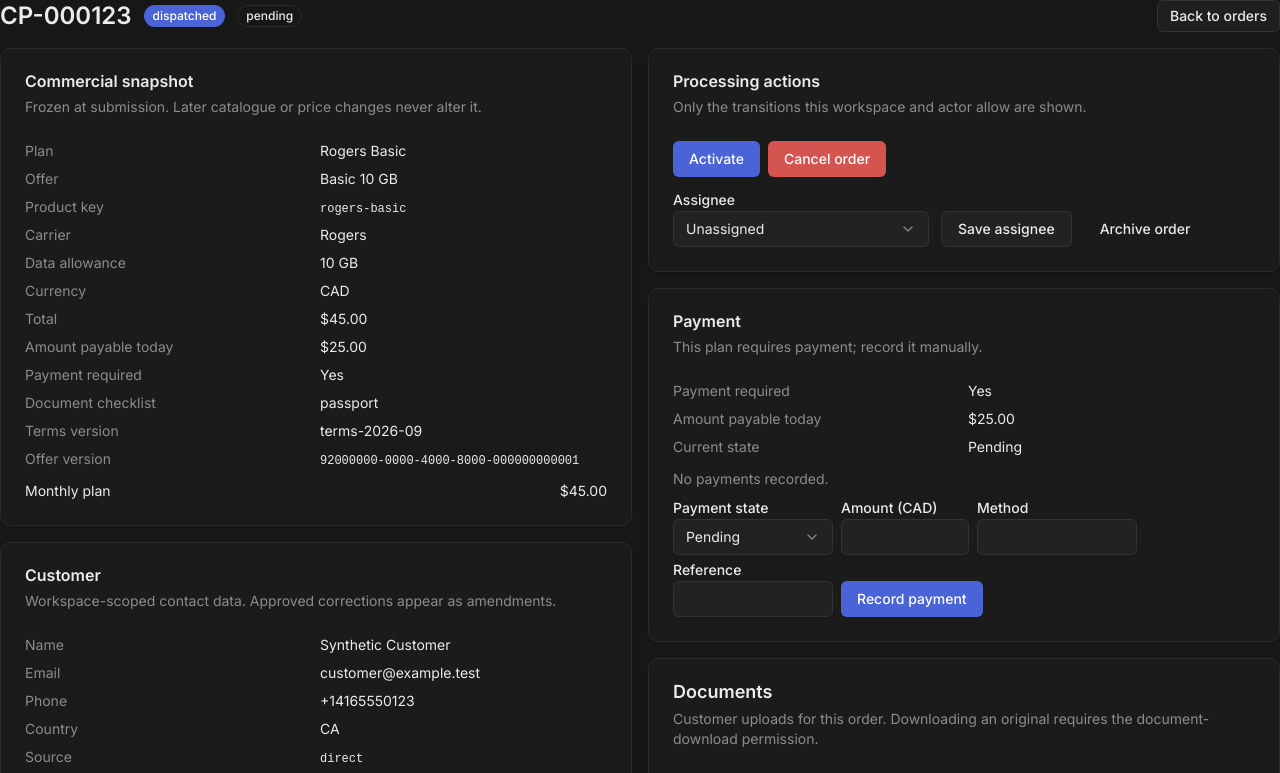
Test case: OrderDetailView optimistic concurrency › surfaces a gated action rather than hiding it
The width and height of the screenshot is (1280, 773).
Expected: the heading "CP-000123" is shown, [0,0,132,32]
Click the button "Activate". click: (716, 159)
box: [673,141,760,177]
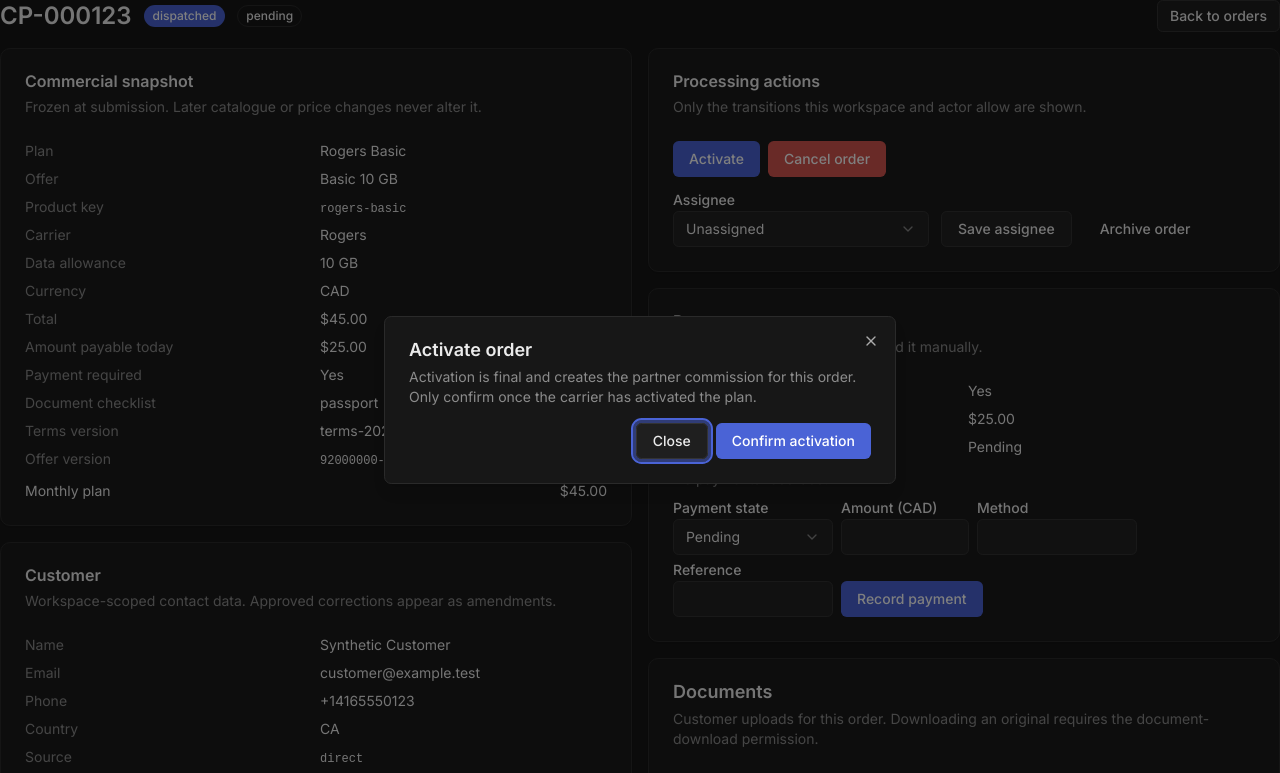
Click the button "Confirm activation". click: (793, 441)
box: [716,423,871,459]
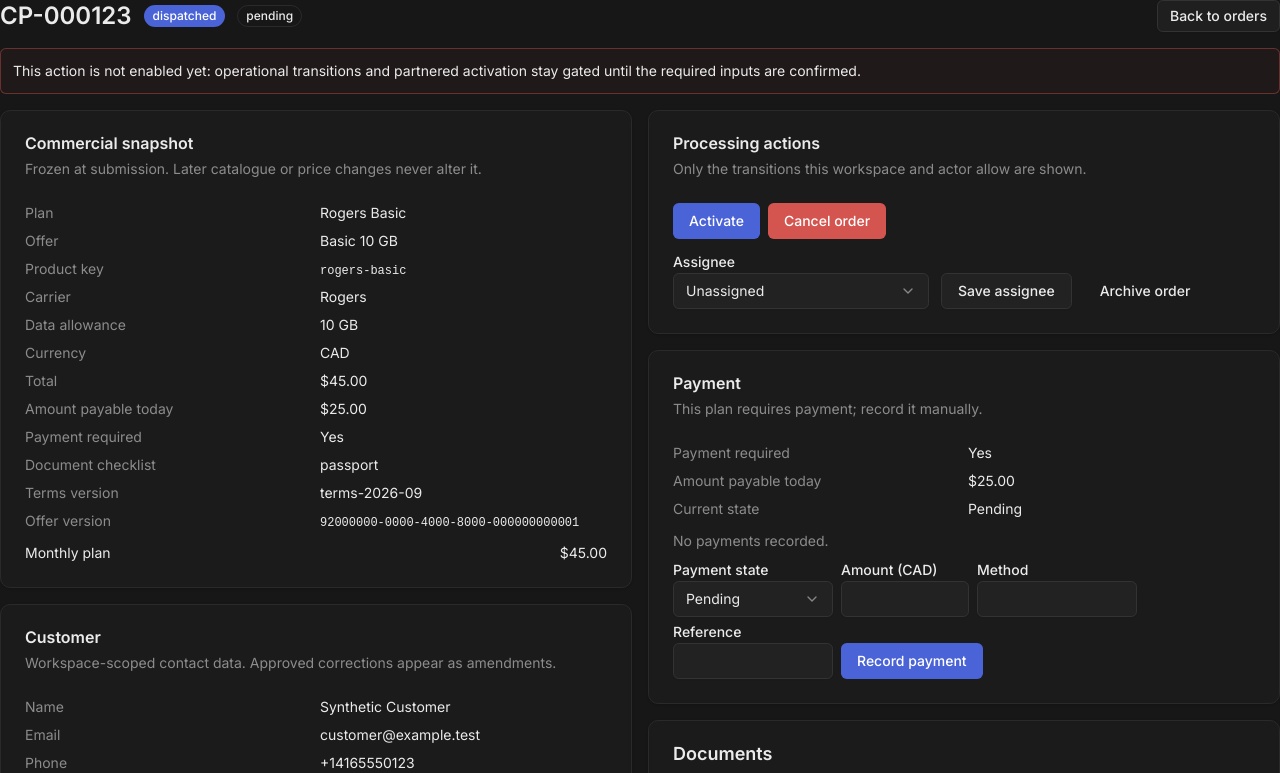
Now the message shows "not enabled yet", box [13,62,861,79]
